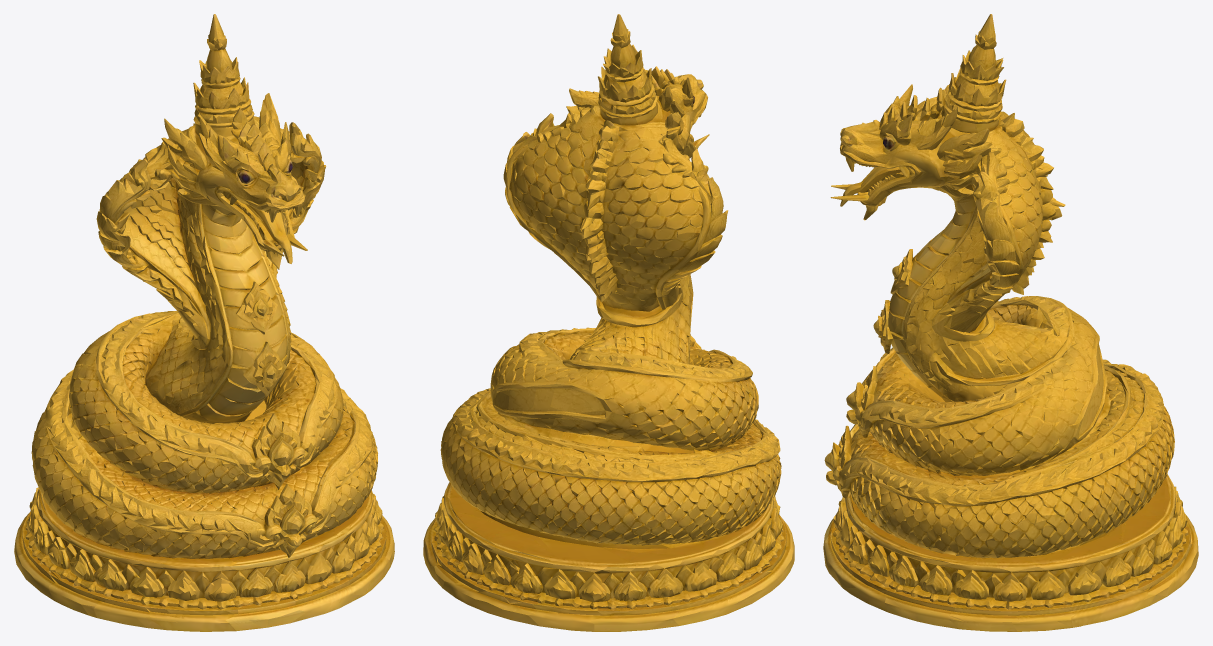
Rendered from sat.glb.
The picture shows the model from 3 angles, left to right: view 1: azimuth 30°, elevation 25°; view 2: azimuth 150°, elevation 25°; view 3: azimuth 270°, elevation 25°; orthographic projection. The views are drawn at different scales.
Parts seen in each view (by area): view 1: Mesh_0; view 2: Mesh_0; view 3: Mesh_0.
Boxes of the visible parts, box(x1,y1,x2,y2) form: Mesh_0: box(14, 14, 394, 631); Mesh_0: box(423, 14, 794, 631); Mesh_0: box(823, 14, 1198, 631).
Size of the model in its own units: 1.2 by 1.9 by 1.2.
1 material, 1 textured.
